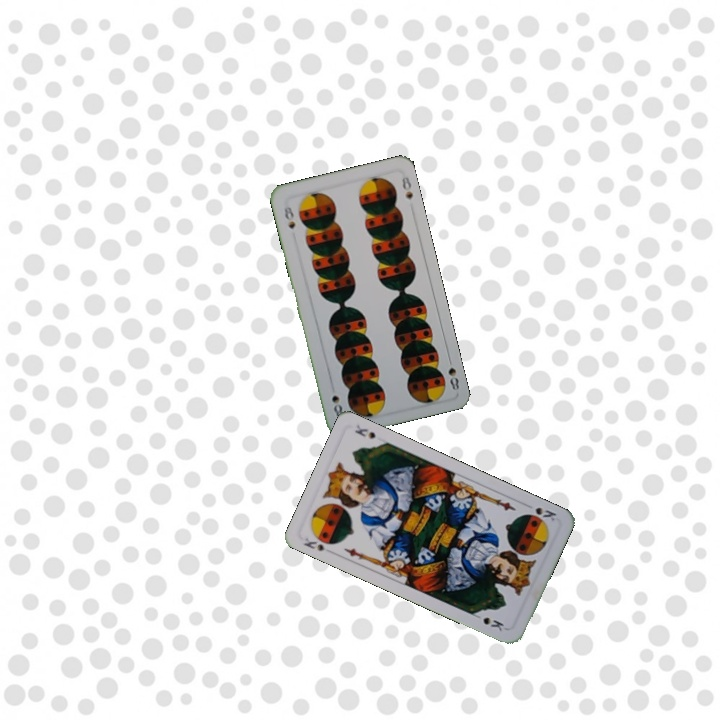S8: (444, 353, 462, 393), (280, 202, 298, 231)
SK: (299, 531, 337, 555), (531, 503, 559, 524)
